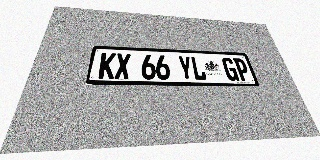6: (155, 55, 171, 80), (142, 54, 156, 80)
G: (221, 58, 240, 81)
K: (98, 53, 116, 79)
L: (190, 56, 207, 80)
P: (233, 58, 252, 81)
X: (114, 53, 131, 79)
Y: (177, 56, 194, 80)
